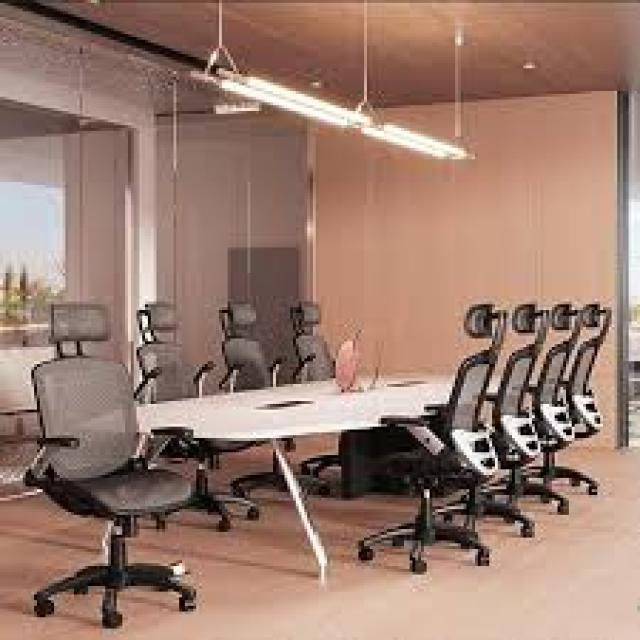chair: (9, 282, 212, 640), (318, 287, 517, 596), (90, 296, 266, 542), (438, 299, 576, 557), (463, 302, 608, 530), (193, 294, 337, 500), (254, 289, 409, 479), (497, 298, 622, 524)
